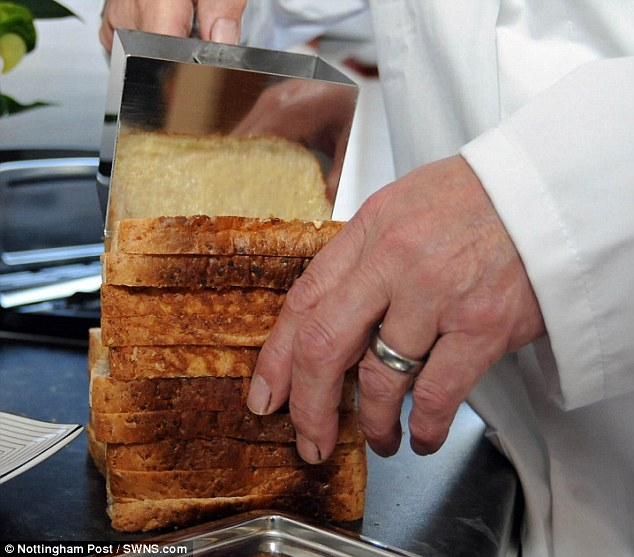slice of bread: (110, 222, 349, 515)
